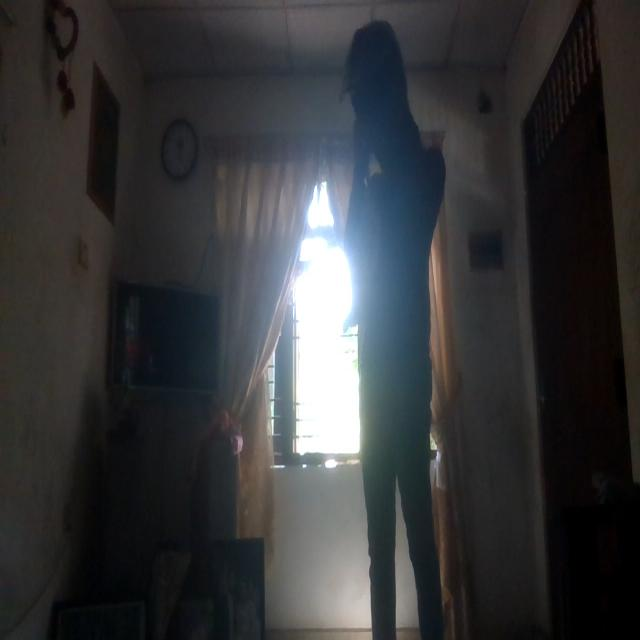Helmet_Wearer: (343, 12, 411, 166)
Person: (331, 26, 457, 640)
